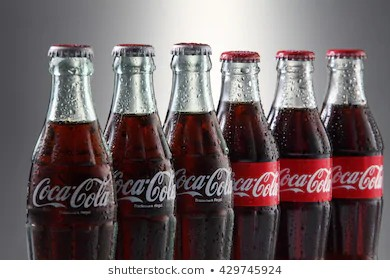coke-glass-bottle: (26, 43, 121, 259), (102, 36, 176, 260), (175, 39, 233, 260), (332, 46, 385, 259), (279, 46, 331, 258), (233, 48, 278, 260)
